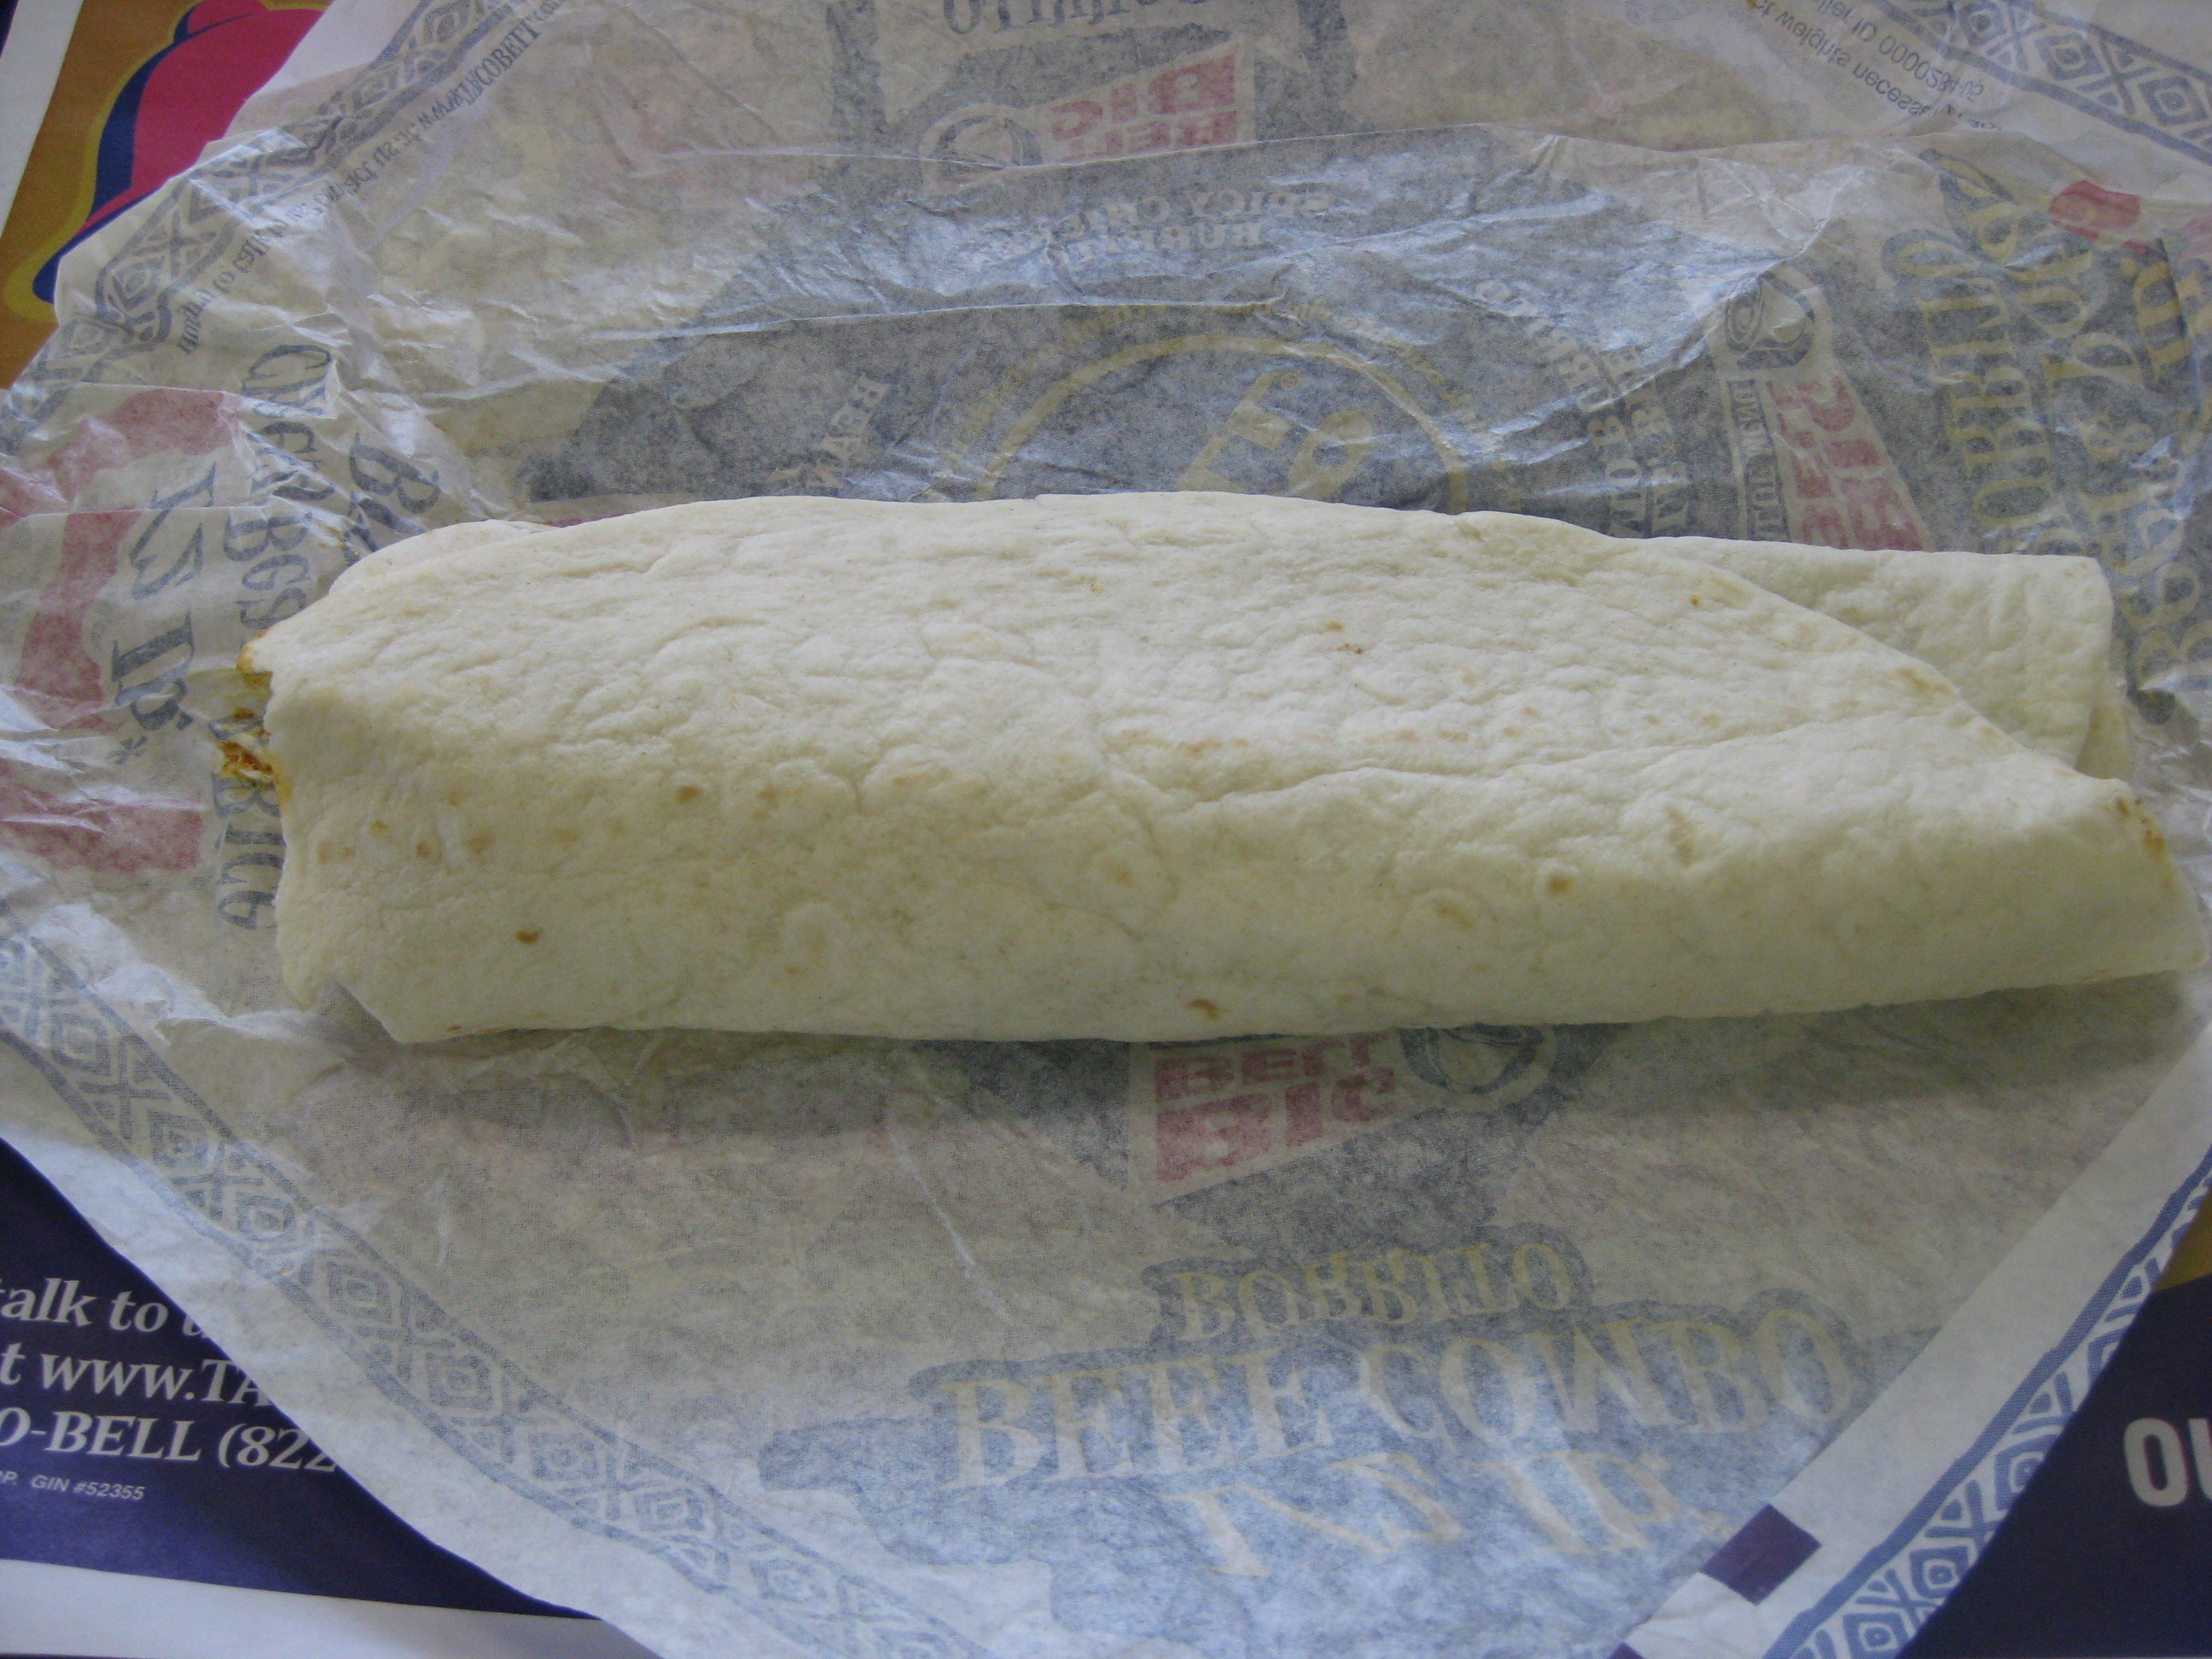burrito: (191, 400, 2192, 1128)
